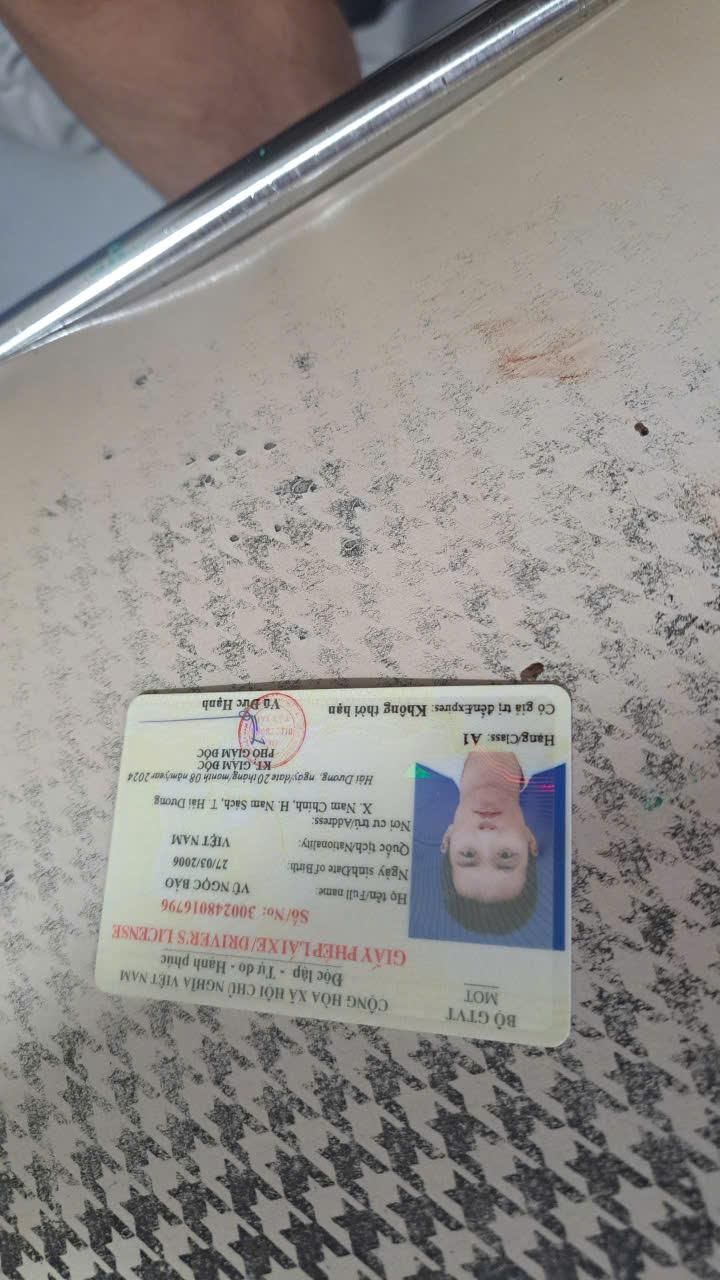gplx: (84, 671, 580, 1055)
